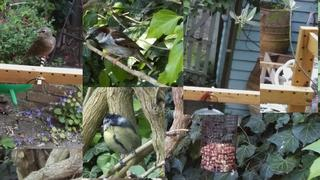blue tit: (101, 114, 140, 167)
sparrow: (84, 27, 157, 72)
starling: (20, 27, 56, 66)
